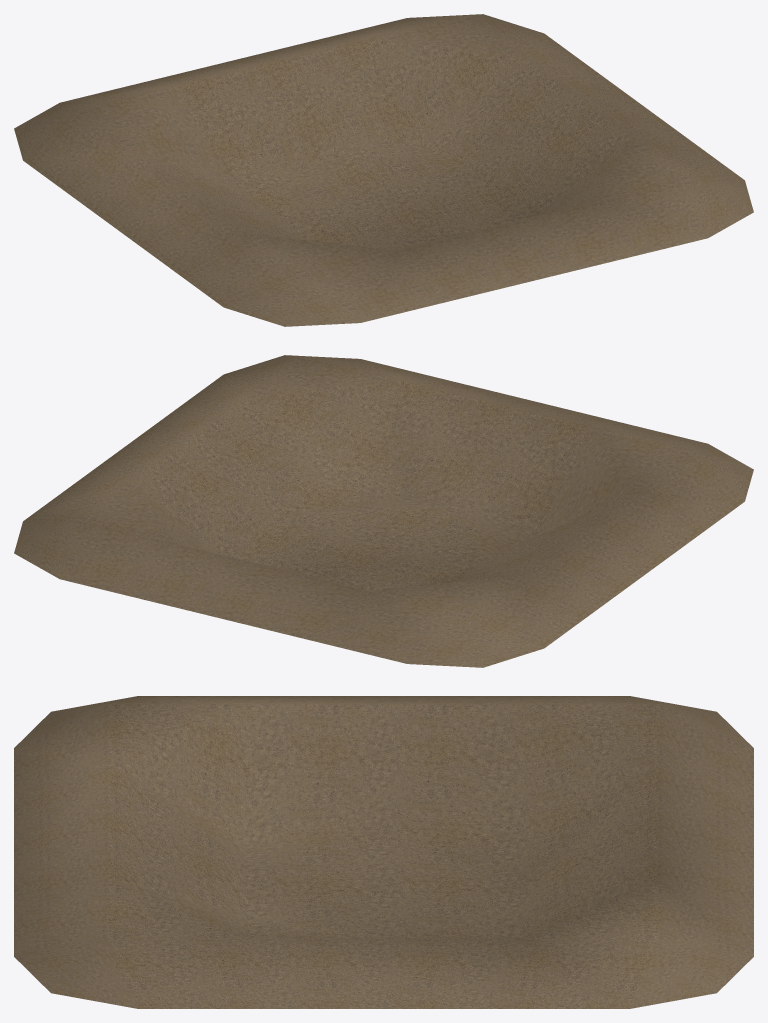
File: sunshine.obj
3 renders of one model, top to bottom at view 1: azimuth 30°, elevation 25°; view 2: azimuth 150°, elevation 25°; view 3: azimuth 270°, elevation 25°, orthographic. The views are drawn at different scales.
Size of the model in its own units: 53.71 by 6.57 by 53.71.
Materials: 1 (1 with a texture image).
